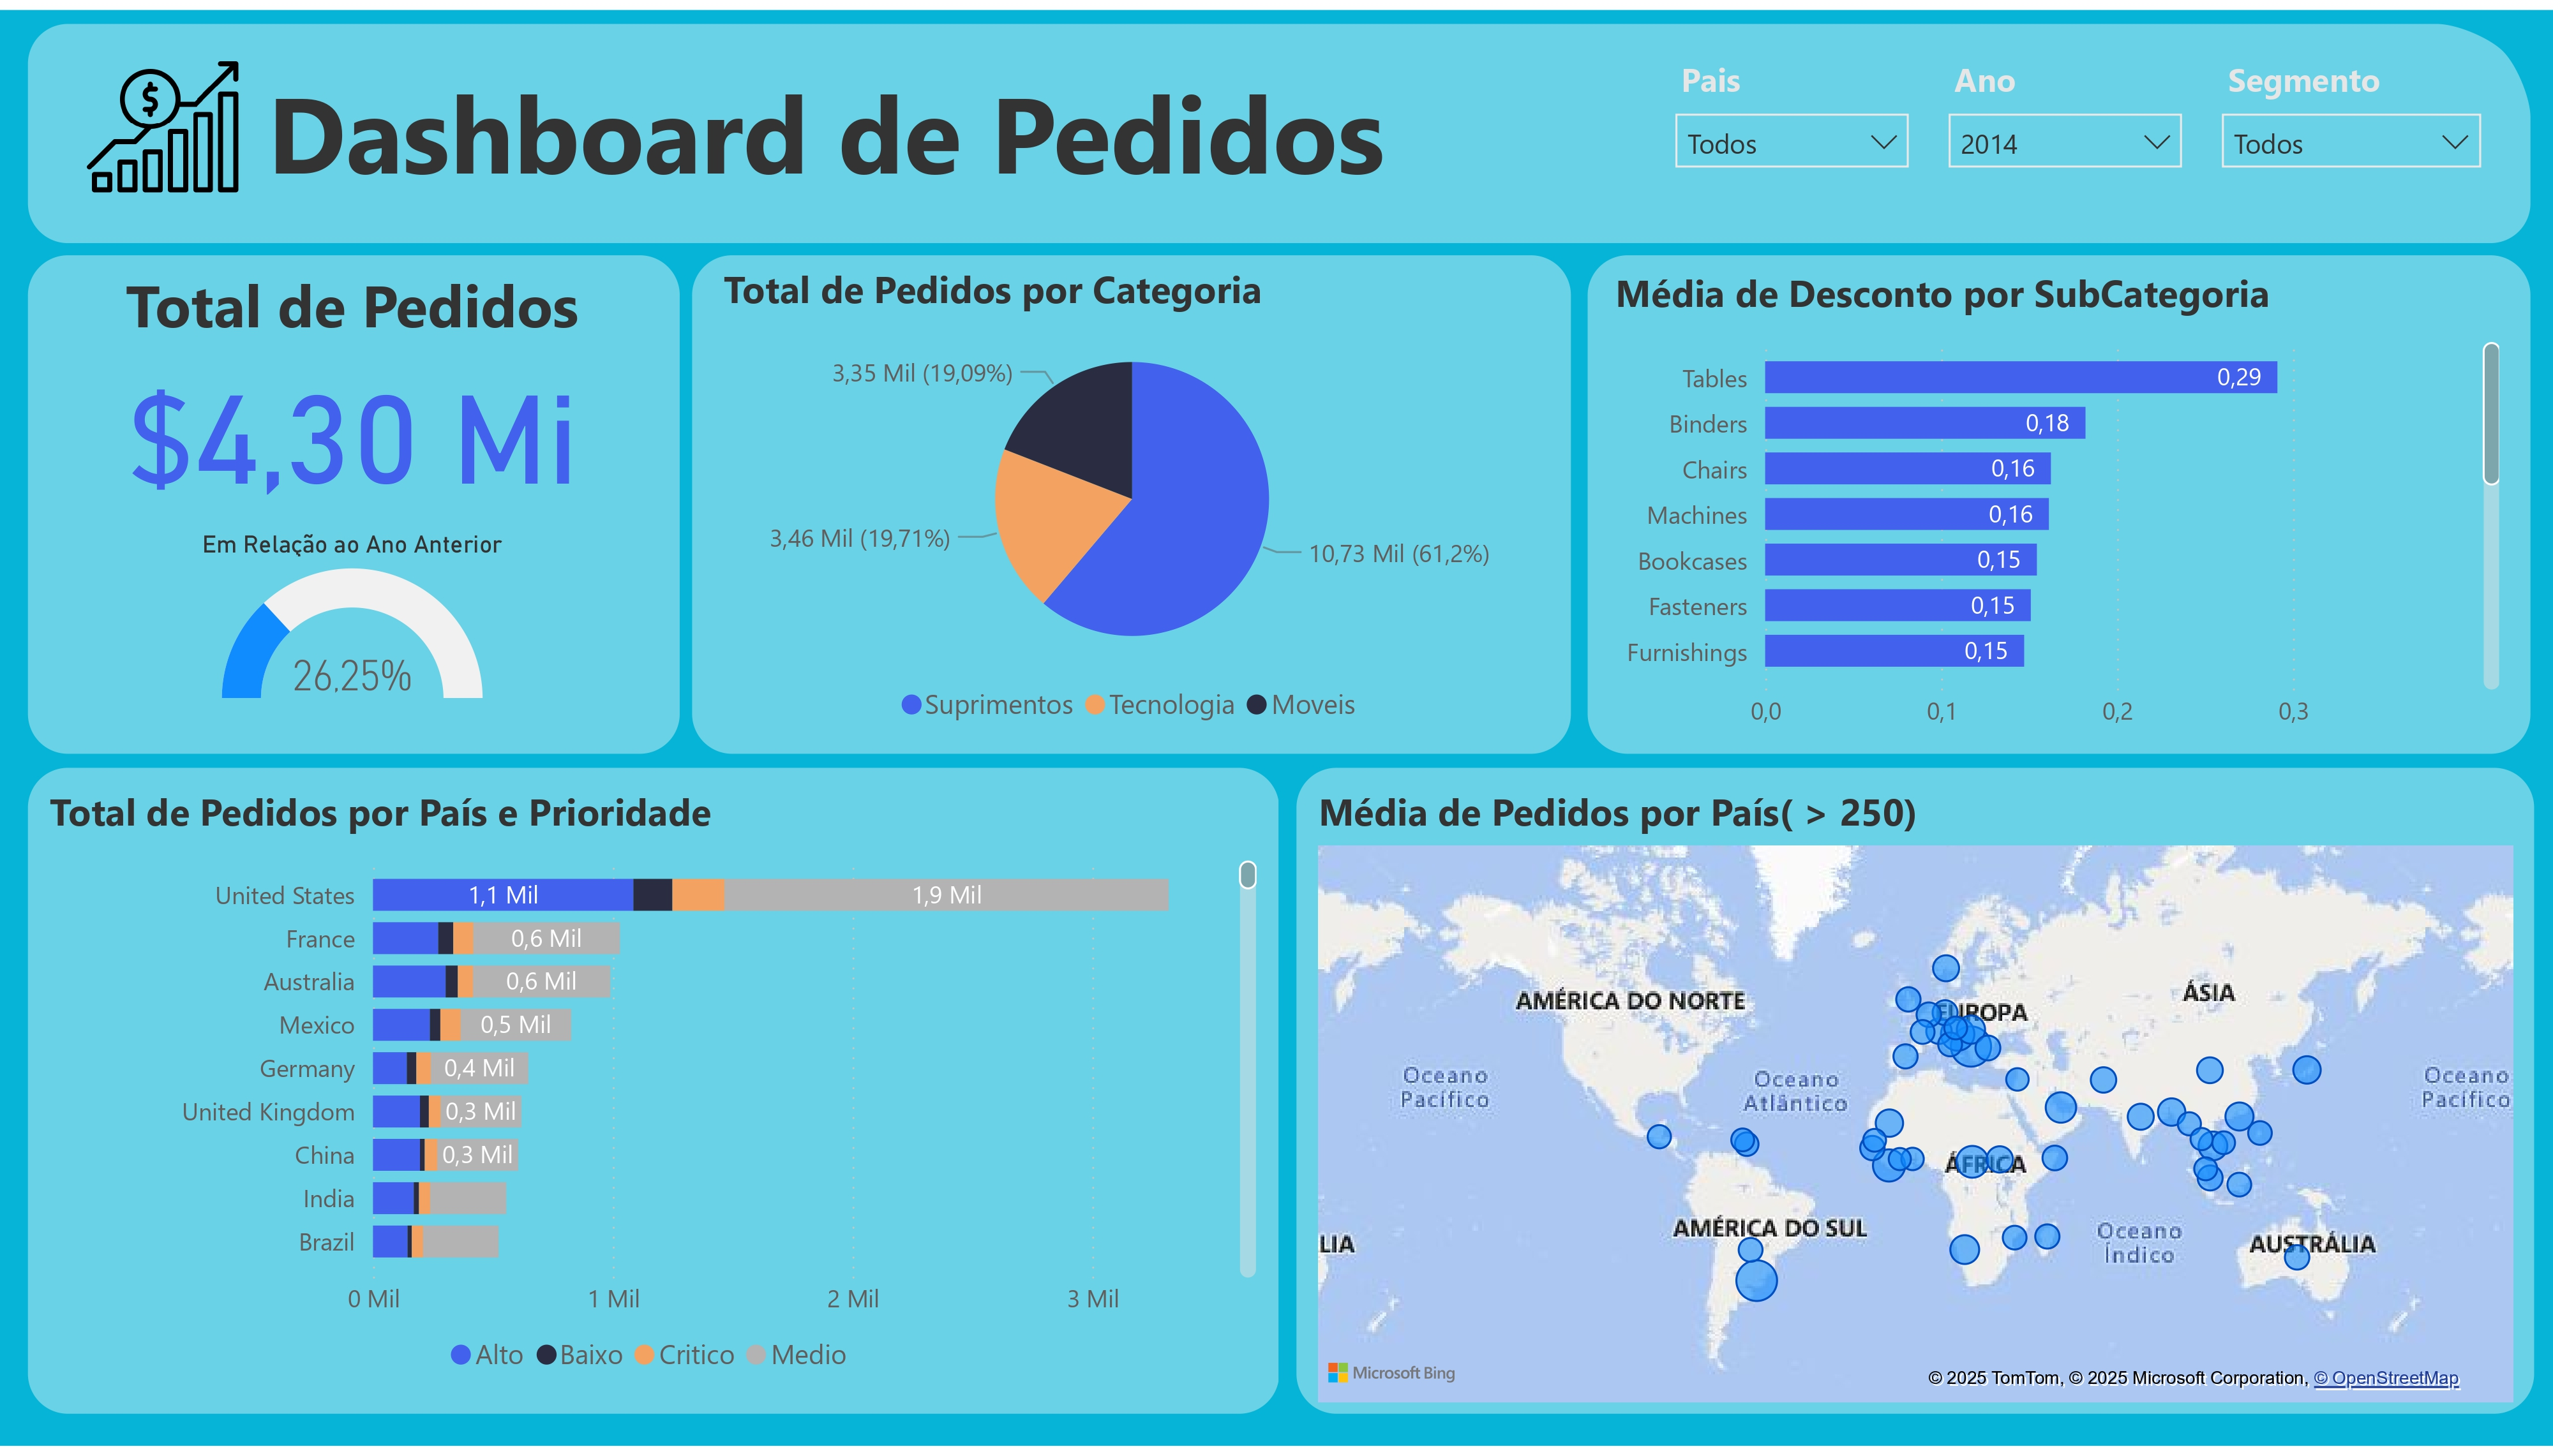

The dashboard page shown, as its layout file describes it:
{"tool":"powerbi","page":{"name":"Vendas","canvas":[1280,720],"ordinal":0},"visuals":[{"type":"shape","box":[13.6,6.8,1254.7,109.9],"z":0},{"type":"shape","box":[13.6,122.6,326.8,250],"z":1000},{"type":"shape","box":[347.2,122.6,440.6,250],"z":2000},{"type":"shape","box":[795.6,122.6,472.7,250],"z":3000},{"type":"shape","box":[13.6,380.3,627.4,323.9],"z":4000},{"type":"shape","box":[649.7,380.3,620.5,323.9],"z":5000},{"type":"card","title":"Total de Pedidos","fields":{"Values":["Sum(dataset.Total_Vendas)"]},"box":[19.5,127.4,315.1,120.6],"z":6000},{"type":"pieChart","title":"Total de Pedidos por Categoria","fields":{"Category":["dataset.Categoria"],"Y":["CountNonNull(dataset.ID_Pedido)"]},"box":[357.9,127.4,419.2,240.2],"z":7000},{"type":"barChart","title":"Total de Pedidos por País e Prioridade","fields":{"Category":["dataset.Pais"],"Y":["CountNonNull(dataset.ID_Pedido)"],"Series":["dataset.Prioridade"]},"box":[20.4,389.1,614.7,304.4],"z":8000},{"type":"barChart","fields":{"Category":["dataset.SubCategoria"],"Y":["Avg(dataset.Desconto)"]},"box":[805.3,129.4,453.3,240.2],"z":9000},{"type":"map","title":"Média de Pedidos por País( > 250)","fields":{"Category":["dataset.Pais"],"Size":["Avg(dataset.Total_Vendas)"]},"box":[655.6,389.1,608.9,314.2],"z":10000},{"type":"slicer","fields":{"Values":["dataset.Pais"]},"box":[829.7,19.5,137.1,62.2],"z":11000},{"type":"slicer","fields":{"Values":["dataset.Segmento"]},"box":[1104,19.5,149.8,61.3],"z":12000},{"type":"slicer","fields":{"Values":["Calendario.Ano"]},"box":[966.8,19.5,137.1,61.3],"z":13000},{"type":"textbox","box":[129.4,19.5,598.2,84.6],"z":14000},{"type":"image","box":[33.1,12.6,96.3,91.4],"z":15000},{"type":"gauge","title":"Em Relação ao Ano Anterior","fields":{"Y":["Medidas.% Crescimento Ano a Ano"]},"box":[36.8,261.2,279.2,88.9],"z":16000}]}

Visuals, with their boxes in screenshot pixels (x1, y1, x2, y2), scaled from the page's 1280x720 canvas onto the 2553x1456 screenshot:
shape: 27/14/2529/236
shape: 27/248/679/754
shape: 693/248/1571/754
shape: 1587/248/2529/754
shape: 27/769/1278/1424
shape: 1296/769/2533/1424
"Total de Pedidos" card: 39/258/668/501
"Total de Pedidos por Categoria" pieChart: 714/258/1550/743
"Total de Pedidos por País e Prioridade" barChart: 41/787/1267/1402
barChart - dataset.SubCategoria x Avg(dataset.Desconto): 1606/262/2510/747
"Média de Pedidos por País( > 250)" map: 1308/787/2522/1422
slicer - dataset.Pais: 1655/40/1928/165
slicer - dataset.Segmento: 2202/40/2501/163
slicer - Calendario.Ano: 1928/40/2202/163
textbox: 258/40/1451/211
image: 66/26/258/211
"Em Relação ao Ano Anterior" gauge: 73/528/631/708
